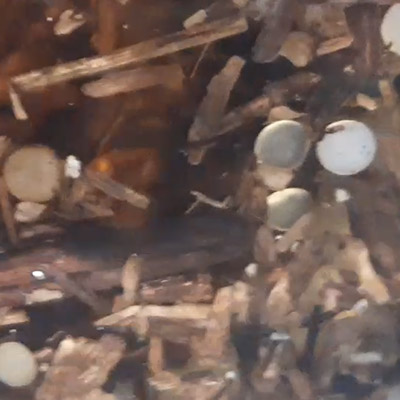nurdle: (5, 143, 74, 205), (315, 116, 376, 178), (249, 119, 314, 173), (259, 187, 321, 231)
